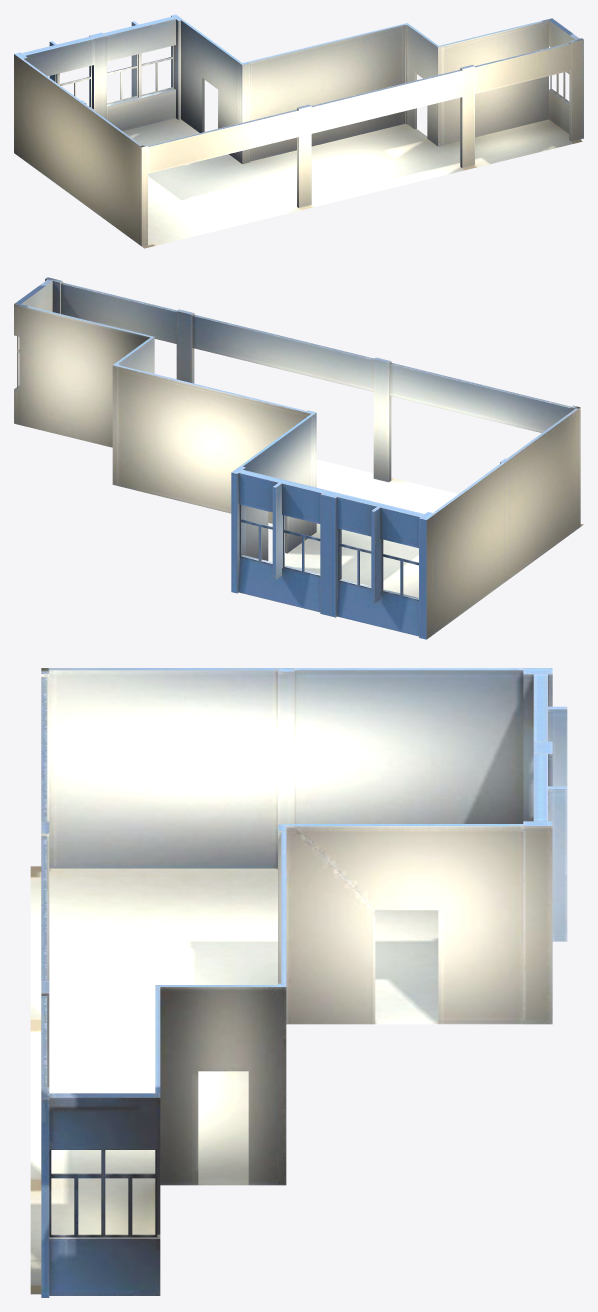
The picture shows the model from 3 angles, top to bottom: view 1: azimuth 30°, elevation 25°; view 2: azimuth 150°, elevation 25°; view 3: azimuth 270°, elevation 25°; orthographic projection. The views are drawn at different scales.
Parts seen in each view (by area): view 1: hc_1floor_room011 (1)_0; view 2: hc_1floor_room011 (1)_0; view 3: hc_1floor_room011 (1)_0.
Boxes of the visible parts, x1,y1,x2,y2 form: hc_1floor_room011 (1)_0: (14, 14, 583, 248); hc_1floor_room011 (1)_0: (14, 277, 583, 639); hc_1floor_room011 (1)_0: (30, 668, 567, 1297).
Bounding box in the file's own units: 2.44 × 0.5218 × 1.28.
Materials: 1 (1 with a texture image).
